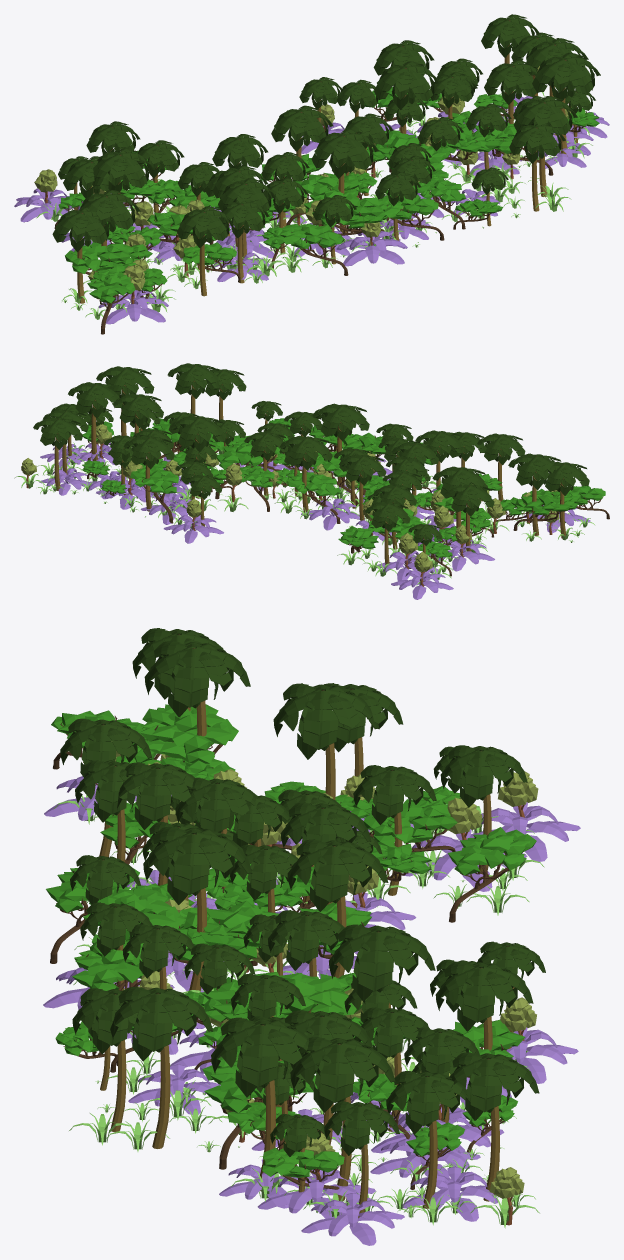
File: jungle_4.dae
3 views of the same model, one above another, from view 1: azimuth 30°, elevation 25°; view 2: azimuth 150°, elevation 25°; view 3: azimuth 270°, elevation 25° (orthographic). The views are drawn at different scales.
Visible parts, largest first — view 1: tree1.341, tree1.320, tree1.328, tree1.301, tree1.307, tree1.310, tree1.314, tree1.299, tree1.297, tree1.340, tree2.419, tree1.302 (+54 smaller); view 2: tree1.320, tree1.343, tree1.302, tree1.314, tree1.328, tree1.299, tree1.332, tree1.341, tree1.337, tree1.301, tree1.306, tree1.313 (+53 smaller); view 3: tree1.341, tree1.320, tree1.299, tree1.307, tree1.343, tree1.302, tree1.328, tree1.314, tree1.337, tree1.332, tree1.338, tree2.398 (+65 smaller).
Part boxes in pixels (x1=…): tree1.341: x1=532, y1=52, x2=600, y2=156; tree1.320: x1=311, y1=129, x2=378, y2=232; tree1.328: x1=374, y1=61, x2=439, y2=133; tree1.301: x1=52, y1=207, x2=113, y2=303; tree1.307: x1=92, y1=148, x2=154, y2=232; tree1.310: x1=177, y1=206, x2=233, y2=296; tree1.314: x1=271, y1=105, x2=333, y2=181; tree1.299: x1=513, y1=96, x2=577, y2=196; tree1.297: x1=509, y1=124, x2=565, y2=211; tree1.340: x1=484, y1=60, x2=537, y2=123; tree2.419: x1=275, y1=223, x2=348, y2=275; tree1.302: x1=78, y1=190, x2=140, y2=247; tree1.320: x1=312, y1=403, x2=369, y2=486; tree1.343: x1=68, y1=382, x2=122, y2=460; tree1.302: x1=508, y1=453, x2=561, y2=535; tree1.314: x1=280, y1=435, x2=332, y2=512; tree1.328: x1=170, y1=415, x2=225, y2=498; tree1.299: x1=167, y1=363, x2=220, y2=416; tree1.332: x1=123, y1=435, x2=174, y2=511; tree1.341: x1=96, y1=366, x2=154, y2=435; tree1.337: x1=33, y1=417, x2=82, y2=490; tree1.301: x1=545, y1=461, x2=589, y2=538; tree1.306: x1=444, y1=484, x2=494, y2=551; tree1.313: x1=339, y1=454, x2=386, y2=520; tree1.341: x1=211, y1=1017, x2=319, y2=1190; tree1.320: x1=143, y1=826, x2=252, y2=992; tree1.299: x1=110, y1=986, x2=212, y2=1148; tree1.307: x1=273, y1=683, x2=379, y2=799; tree1.343: x1=290, y1=1037, x2=395, y2=1200; tree1.302: x1=144, y1=641, x2=250, y2=736; tree1.328: x1=329, y1=924, x2=435, y2=1008; tree1.314: x1=287, y1=839, x2=388, y2=977; tree1.337: x1=449, y1=1052, x2=539, y2=1201; tree1.332: x1=435, y1=961, x2=533, y2=1050; tree1.338: x1=386, y1=1071, x2=470, y2=1208; tree2.398: x1=140, y1=704, x2=238, y2=763.
Bounding box in the file's own units: 15.39 × 7.19 × 2.45.
